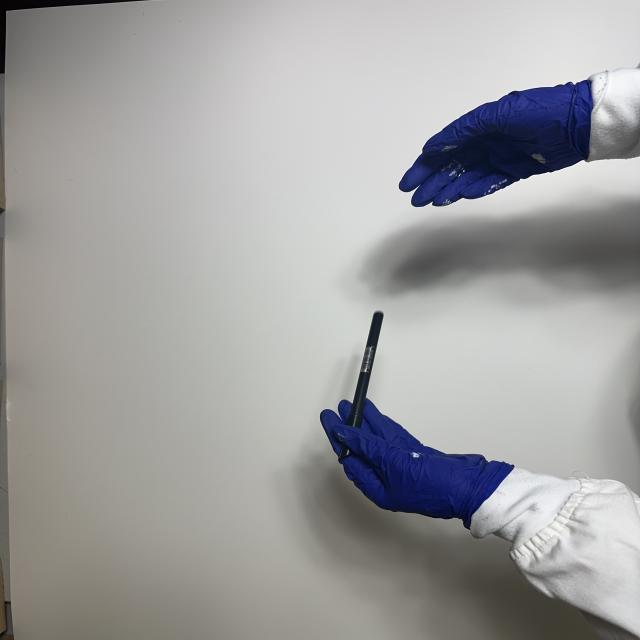gloves_contaminated: (320, 400, 514, 526), (399, 80, 593, 206)
